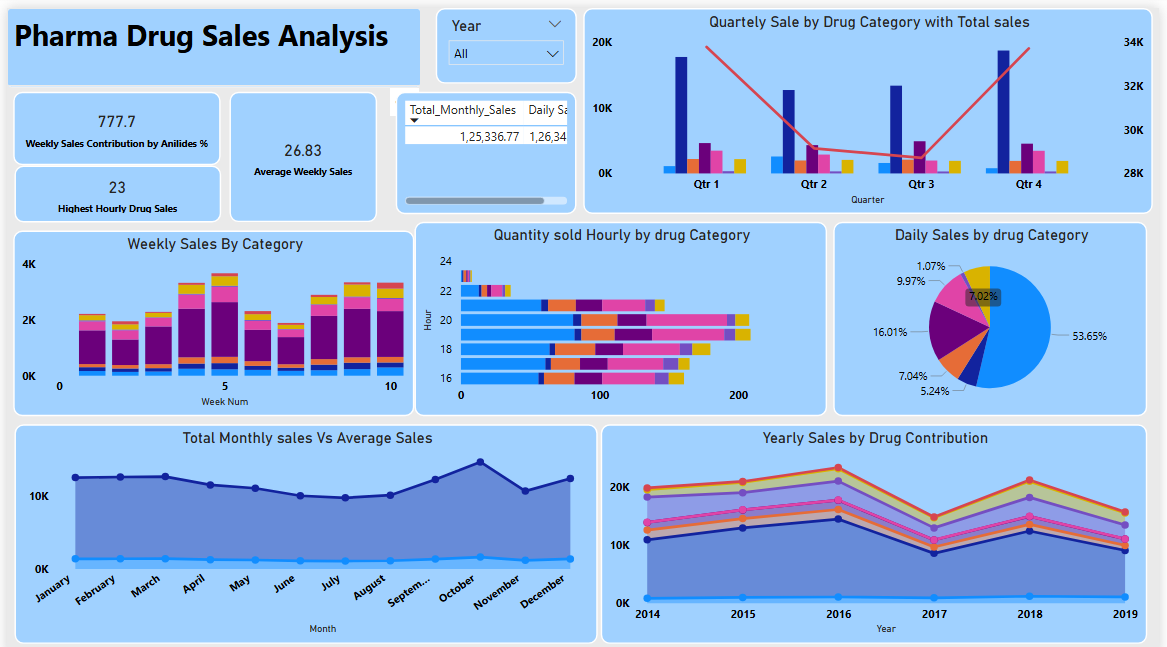

Layout of this report page (visuals, bound fields, positions):
{"tool":"powerbi","page":{"name":"Page 1","canvas":[1280,720],"ordinal":0},"visuals":[{"type":"textbox","box":[0,0,460,88],"z":0},{"type":"columnChart","title":"Weekly Sales By Category","fields":{"Category":["Sales Weekly.Week Num"],"Y":["Sum(Sales Weekly.M01AB)","Sum(Sales Weekly.M01AE)","Sum(Sales Weekly.N02BA)","Sum(Sales Weekly.N02BE)","Sum(Sales Weekly.N05B)","Sum(Sales Weekly.N05C)","Sum(Sales Weekly.R03)","Sum(Sales Weekly.R06)"]},"box":[7.6,247.8,445.7,206.5],"z":1},{"type":"stackedAreaChart","title":"Total Monthly sales Vs Average Sales ","fields":{"Category":["Sales Monthly.Date.Variation.Date Hierarchy.Month"],"Y":["Sales Monthly.Average Monthly Sales","Sales Monthly.Total_Monthly_Sales"]},"box":[9,463,648,244],"z":2},{"type":"barChart","title":"Quantity  sold Hourly by drug Category","fields":{"Category":["Sales Hourly.Hour"],"Y":["Count(Sales Hourly.Anilides)","Count(Sales Hourly.Allergy medicines)","Count(Sales Hourly.Pain relief medicines)","Count(Sales Hourly.Rheumatic products)","Count(Sales Hourly.Anti-inflammatory medicines)","Count(Sales Hourly.Anxiolytic medicines)","Count(Sales Hourly.Asthma/respiratory medicines)"]},"box":[453,238,458,216],"z":3},{"type":"pieChart","title":"Daily Sales by drug Category","fields":{"Y":["Sum(Sales Monthly.Anilides)","Sum(Sales daily.Allergy medicines)","Sum(Sales daily.Anti-inflammatory medicines)","Sum(Sales daily.Anxiolytic medicines)","Sum(Sales daily.Asthma/respiratory medicines)","Sum(Sales daily.Hypnotics and sedatives)","Sum(Sales daily.Pain relief medicines)"]},"box":[918,238,349,216],"z":4},{"type":"stackedAreaChart","title":"Yearly Sales by Drug Contribution","fields":{"Category":["Sales Monthly.Date.Variation.Date Hierarchy.Year"],"Y":["Sum(Sales Monthly.Allergy medicines)","Sum(Sales Monthly.Anilides)","Sum(Sales Monthly.Pain relief medicines)","Sum(Sales Monthly.Anti-inflammatory medicines)","CountNonNull(Sales Monthly.Rheumatic products)","Sum(Sales Monthly.Anxiolytic medicines)","Sum(Sales Monthly.Asthma/respiratory medicines)","Sum(Sales Monthly.Hypnotics and sedatives)"]},"box":[660,463,607,244],"z":5},{"type":"lineClusteredColumnComboChart","title":"Quartely Sale by Drug Category with Total sales","fields":{"Category":["Sales Monthly.Date.Variation.Date Hierarchy.Quarter"],"Y":["Sum(Sales Monthly.Allergy medicines)","Sum(Sales Monthly.Anilides)","Sum(Sales Monthly.Anti-inflammatory medicines)","Sum(Sales Monthly.Anxiolytic medicines)","Sum(Sales Monthly.Asthma/respiratory medicines)","Sum(Sales Monthly.Hypnotics and sedatives)","Sum(Sales Monthly.Pain relief medicines)"],"Y2":["Sales Monthly.Total_Monthly_Sales"]},"box":[640,0,633,229],"z":6},{"type":"card","fields":{"Values":["Sales Weekly.Average Weekly Sales"]},"box":[247.8,93.5,164.1,144.6],"z":7},{"type":"card","fields":{"Values":["Sales Hourly.Weekly Sales Contribution by Anilides %"]},"box":[7.6,93.5,230.4,81.5],"z":8},{"type":"card","fields":{"Values":["Sales Hourly.Highest Hourly Drug Sales"]},"box":[8.7,175,229.3,63],"z":9},{"type":"slicer","fields":{"Values":["Sales Monthly.Date.Variation.Date Hierarchy.Year"]},"box":[477,0,157,84],"z":10},{"type":"tableEx","fields":{"Values":["Sales Monthly.Total_Monthly_Sales","Sales daily.Daily Sales"]},"box":[432.6,93.5,201.1,135.9],"z":11}]}

Visuals, with their boxes in screenshot pixels (x1, y1, x2, y2), scaled from the page's 1280x720 canvas onto the 1167x647 screenshot:
textbox: (x1=0, y1=0, x2=419, y2=79)
"Weekly Sales By Category" columnChart: (x1=7, y1=223, x2=413, y2=408)
"Total Monthly sales Vs Average Sales " stackedAreaChart: (x1=8, y1=416, x2=599, y2=635)
"Quantity  sold Hourly by drug Category" barChart: (x1=413, y1=214, x2=831, y2=408)
"Daily Sales by drug Category" pieChart: (x1=837, y1=214, x2=1155, y2=408)
"Yearly Sales by Drug Contribution" stackedAreaChart: (x1=602, y1=416, x2=1155, y2=635)
"Quartely Sale by Drug Category with Total sales" lineClusteredColumnComboChart: (x1=584, y1=0, x2=1161, y2=206)
card - Sales Weekly.Average Weekly Sales: (x1=226, y1=84, x2=376, y2=214)
card - Sales Hourly.Weekly Sales Contribution by Anilides %: (x1=7, y1=84, x2=217, y2=157)
card - Sales Hourly.Highest Hourly Drug Sales: (x1=8, y1=157, x2=217, y2=214)
slicer - Sales Monthly.Date.Variation.Date Hierarchy.Year: (x1=435, y1=0, x2=578, y2=75)
tableEx - Sales Monthly.Total_Monthly_Sales x Sales daily.Daily Sales: (x1=394, y1=84, x2=578, y2=206)
